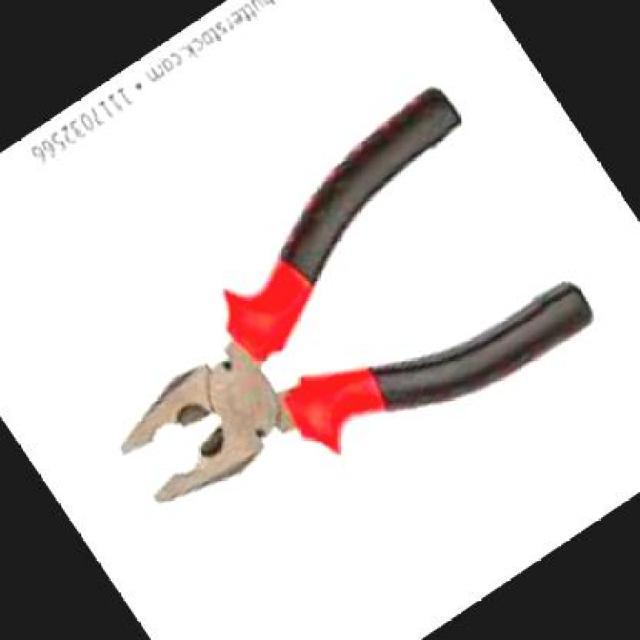pliers: (25, 54, 621, 604)
